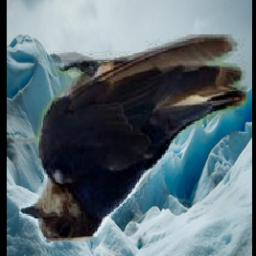Swallow: (19, 35, 247, 243)
